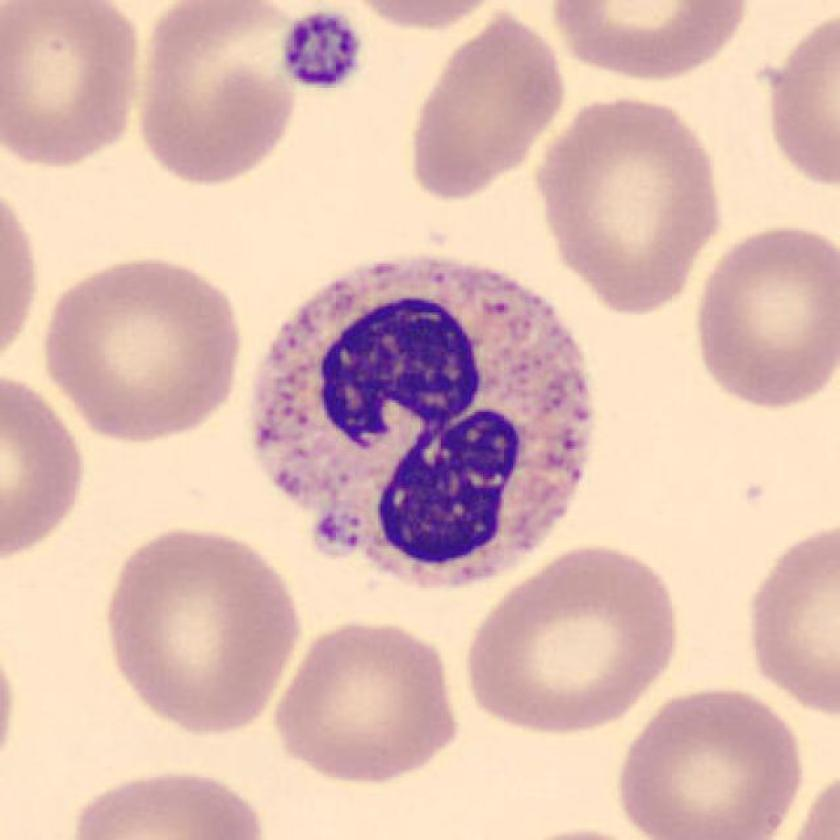neutrophil: (256, 260, 589, 581)
platelets: (287, 10, 362, 90)
